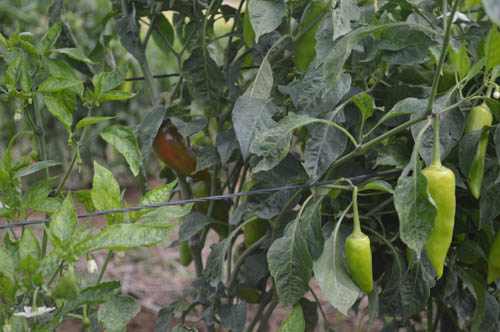ChiliPepper: (416, 168, 450, 280), (460, 108, 483, 195), (343, 232, 373, 287), (192, 184, 225, 229), (239, 217, 261, 242)
